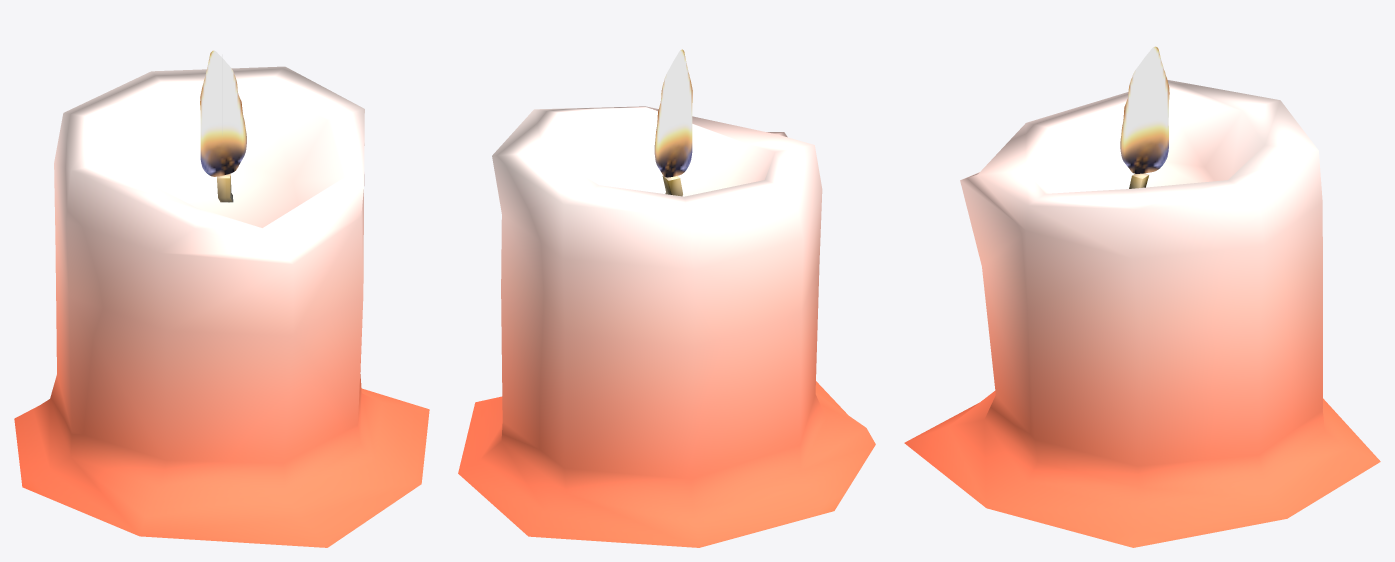
File: CandleShapeC.017.glb
The picture shows the model from 3 angles, left to right: view 1: azimuth 30°, elevation 25°; view 2: azimuth 150°, elevation 25°; view 3: azimuth 270°, elevation 25°; orthographic projection.
Parts seen in each view (by area): view 1: CandleShapeC.017; view 2: CandleShapeC.017; view 3: CandleShapeC.017.
Boxes of the visible parts, left/top/right/bottom form: CandleShapeC.017: left=14, top=50, right=429, bottom=547; CandleShapeC.017: left=458, top=49, right=875, bottom=547; CandleShapeC.017: left=904, top=46, right=1380, bottom=547.
Size of the model in its own units: 0.1734 by 0.1799 by 0.1889.
2 materials, 2 textured.
